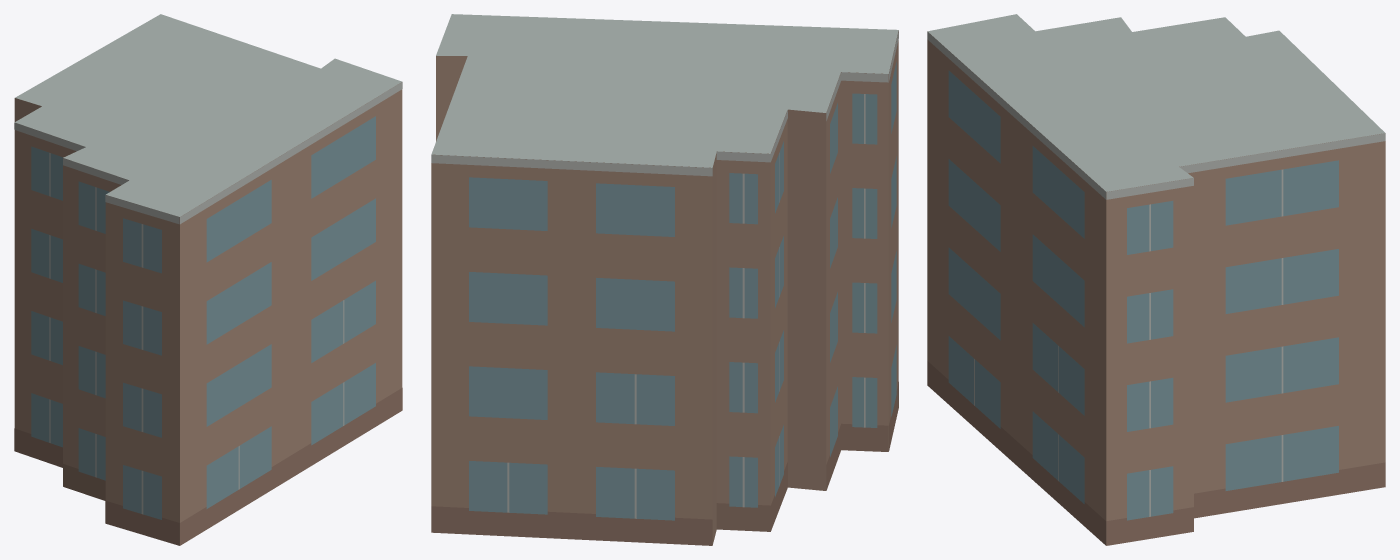
The model's file is survey-upis-32498945.glb.
3 renders of one model, left to right at view 1: azimuth 30°, elevation 25°; view 2: azimuth 150°, elevation 25°; view 3: azimuth 270°, elevation 25°, orthographic. The views are drawn at different scales.
Visible parts, largest first — view 1: survey-upis-32498945.tmp; view 2: survey-upis-32498945.tmp; view 3: survey-upis-32498945.tmp.
Part boxes in pixels (left/top/right/bottom): survey-upis-32498945.tmp: left=14, top=14, right=402, bottom=545; survey-upis-32498945.tmp: left=431, top=14, right=898, bottom=545; survey-upis-32498945.tmp: left=927, top=14, right=1385, bottom=545.
Bounding box in the file's own units: 11.65 × 10.8 × 12.68.
